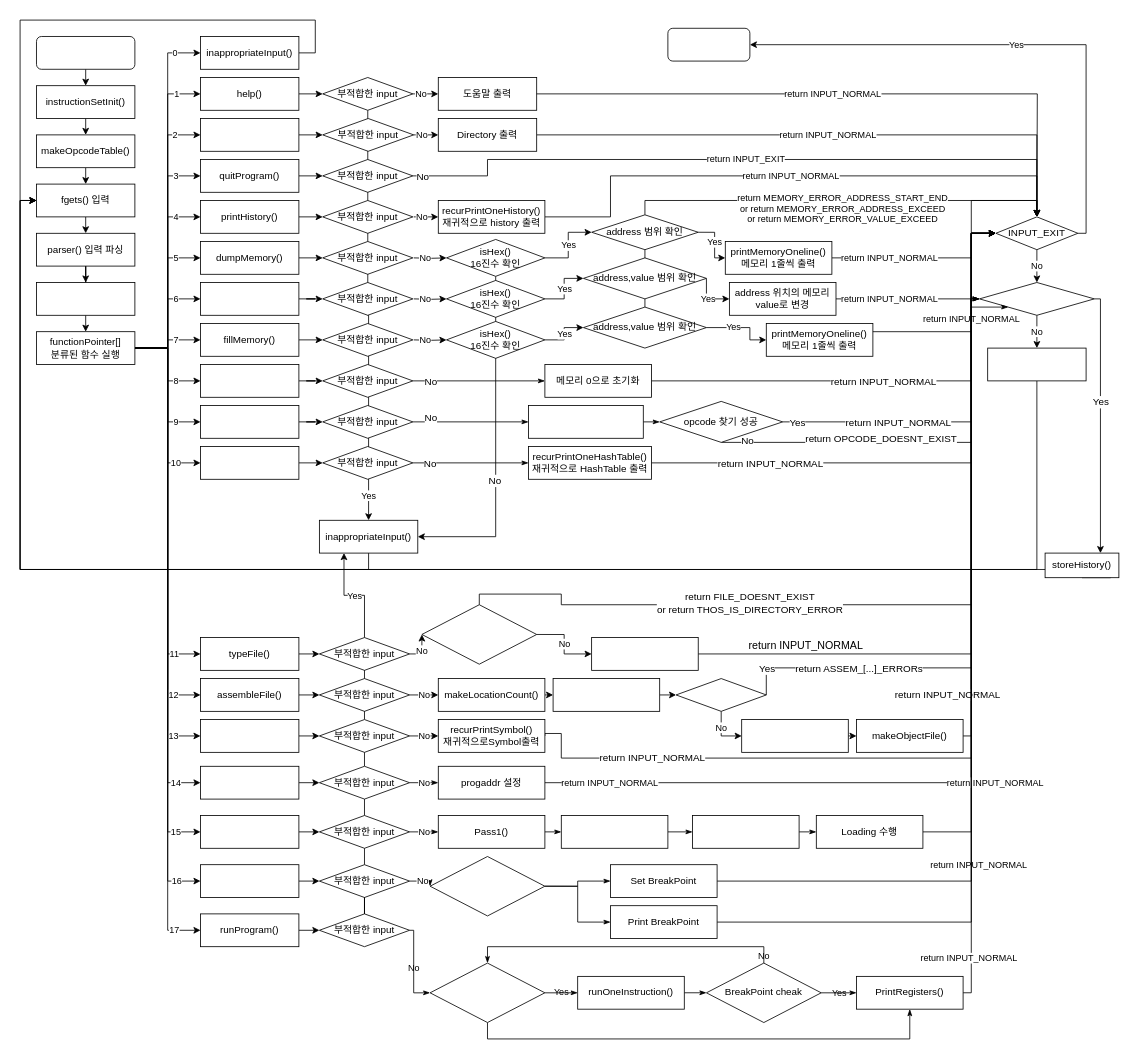
Some shapes in this 1133 by 1060 pixel diagram are drawn without their labels. The shapes that lost their labels are listed below. From the top down, each one's centre as x and y in pixels, then its label:
At point (85, 52): "프로그램 실행".
At point (708, 44): "프로그램 종료".
At point (249, 134): "printDirectory()".
At point (85, 298): "classifyInput() 입력 명령어 분류".
At point (249, 298): "editMemory()".
At point (1036, 298): "INPUT_NORMAL".
At point (249, 380): "resetMemory()".
At point (1036, 364): "printError() 에러구문 출력".
At point (249, 421): "opcodeMnemonic()".
At point (585, 421): "recurFineOpcode() 재귀적으로 opcode 탐색".
At point (249, 462): "opcodeList()".
At point (479, 634): "Directory,file 유무 check".
At point (644, 653): "FIle의 내용 출력".
At point (606, 694): "makeObjectCode()".
At point (720, 694): "code ERROR".
At point (249, 735): "printSymbol()".
At point (794, 735): "makeListingFile()".
At point (249, 782): "setProgaddr()".
At point (249, 831): "loader()".
At point (614, 831): "Linking 수행".
At point (745, 831): "Pass2()".
At point (249, 880): "breakPoint()".
At point (487, 886): "명령어 구분".
At point (487, 992): "PC<progaddr+totalLen".
